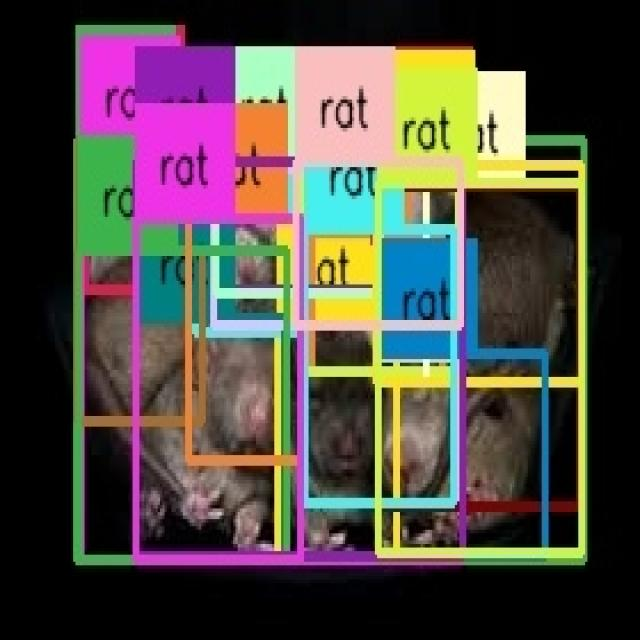rat: (77, 142, 584, 558), (82, 150, 464, 558), (136, 164, 463, 558), (378, 183, 582, 553), (378, 185, 580, 505), (77, 249, 286, 558), (137, 221, 302, 558), (377, 165, 581, 382), (305, 229, 454, 503), (214, 160, 461, 324), (137, 316, 286, 558), (378, 356, 545, 554), (215, 162, 462, 293), (303, 166, 458, 372), (428, 185, 578, 380), (187, 218, 304, 461), (278, 322, 397, 560), (296, 162, 461, 325), (214, 167, 380, 324), (77, 251, 202, 421), (216, 167, 381, 292), (86, 138, 216, 292), (312, 231, 442, 370), (197, 217, 304, 334), (377, 355, 457, 505), (375, 162, 462, 244)
